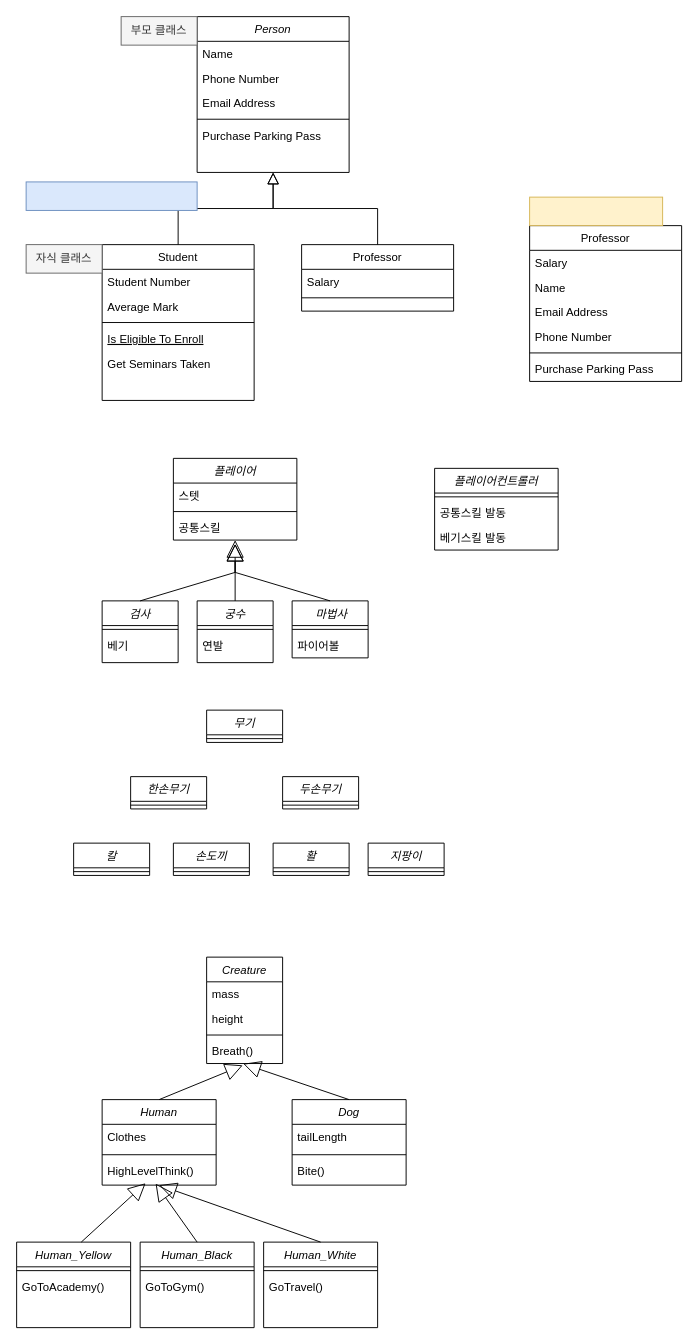
Some shapes in this 698 by 1344 pixel diagram are drawn without their labels. Each missing label, with the centre of its shape:
"상속 Student 가 Person 을 상속받았다" goes at point 111,195.
"상속을 안받았다면..." goes at point 596,211.
